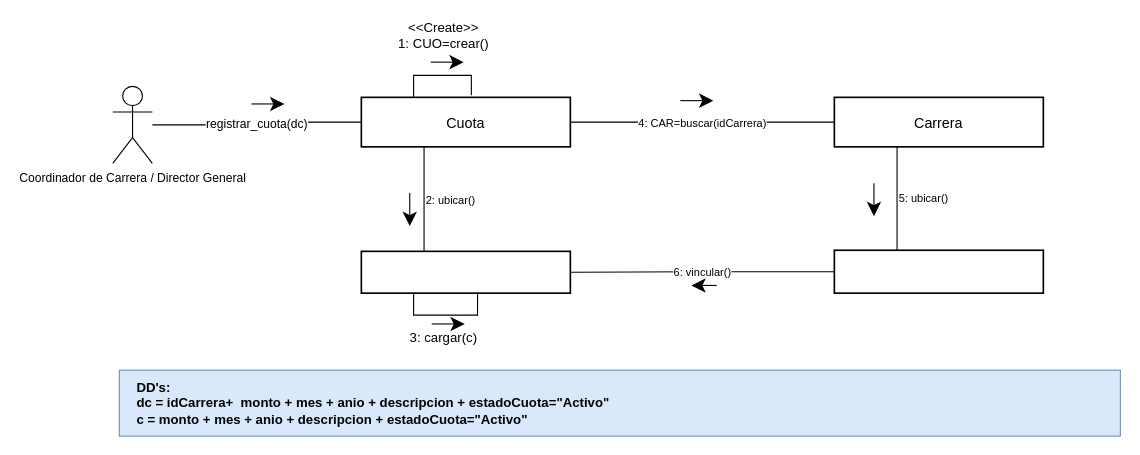
Image size: 1140x455. Some labels were removed from this diagram. Each missing label, with the centre of its shape:
"CAR : Carrera" goes at (x=938, y=271).
"CUO : Cuota" goes at (x=465, y=271).
